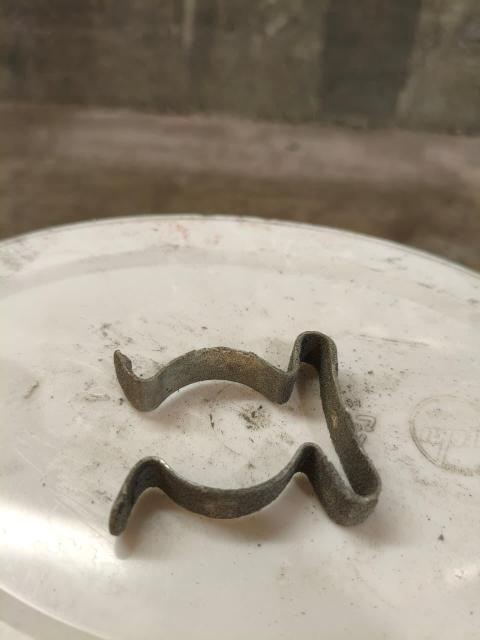Metal: (118, 343, 385, 535)
